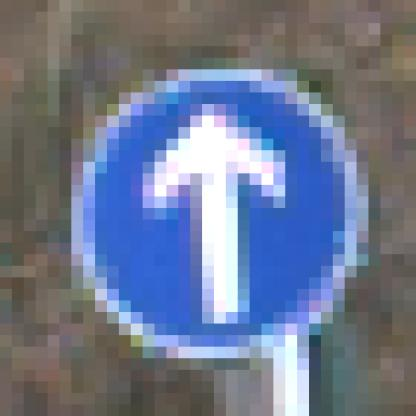AheadOnly: (60, 59, 346, 348)
